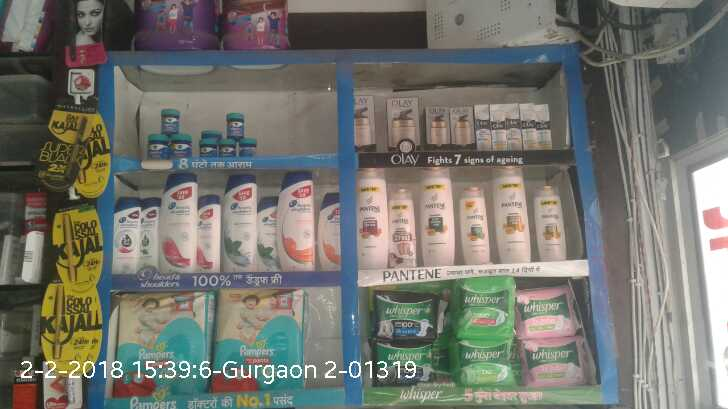vicks: (143, 108, 259, 165)
